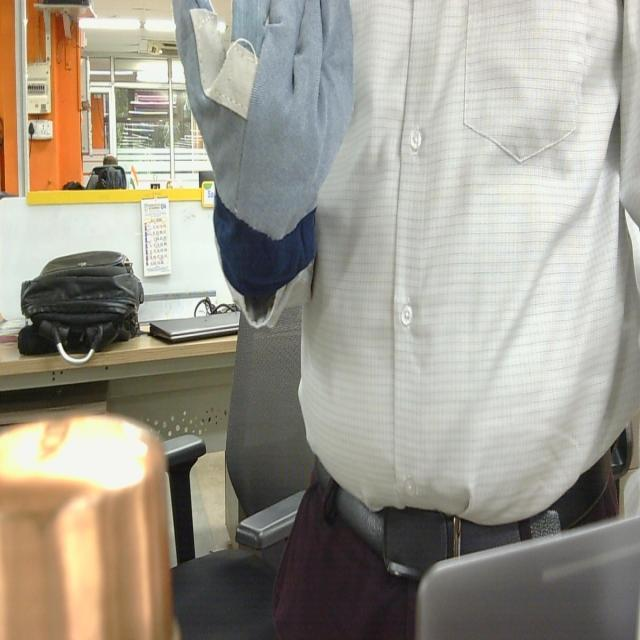Gloves-Detection: (167, 0, 358, 300)
